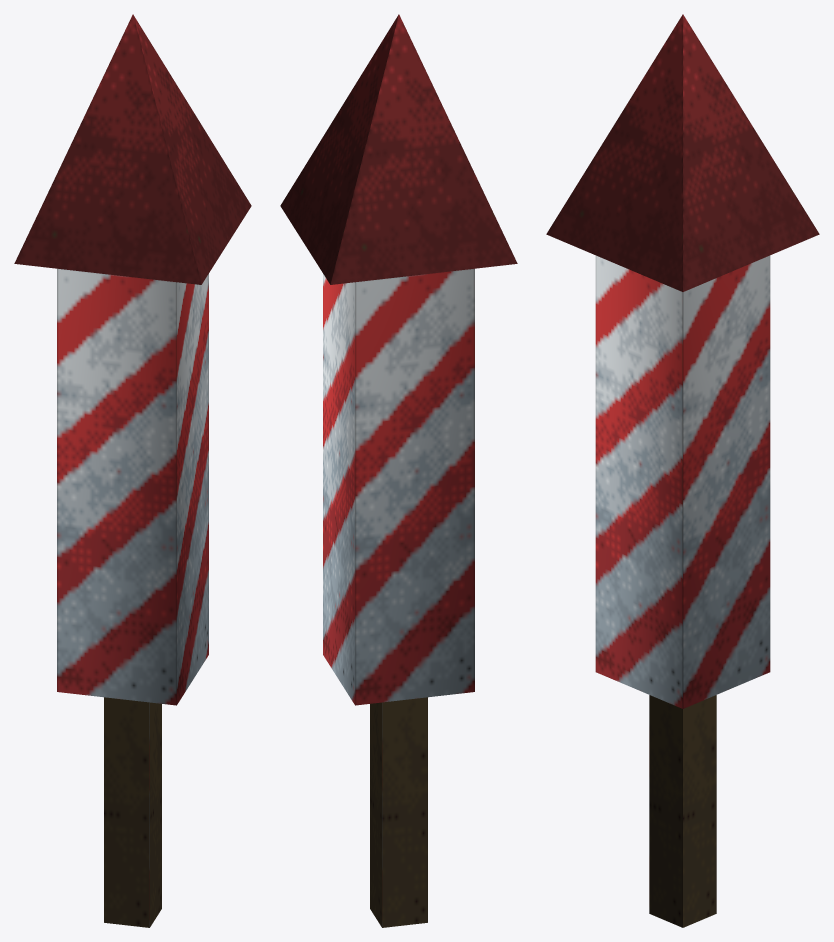
The model's file is Firework.dae.
The picture shows the model from 3 angles, left to right: view 1: azimuth 30°, elevation 25°; view 2: azimuth 150°, elevation 25°; view 3: azimuth 270°, elevation 25°; orthographic projection.
Parts seen in each view (by area): view 1: Rocket; view 2: Rocket; view 3: Rocket.
Part boxes in pixels (bbox=[...]): Rocket: bbox=[14, 14, 251, 927]; Rocket: bbox=[280, 14, 517, 927]; Rocket: bbox=[546, 14, 819, 927].
Bounding box in the file's own units: 0.6158 × 0.6158 × 2.26.
1 material, 1 textured.
